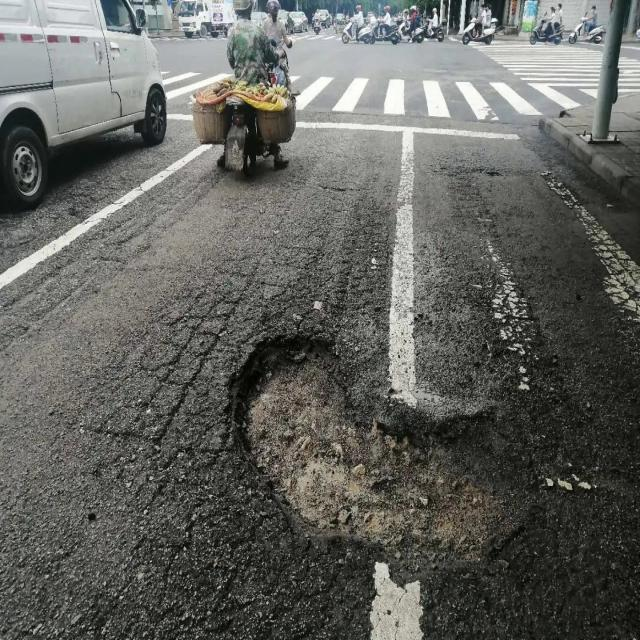Buraco: (216, 330, 544, 566)
